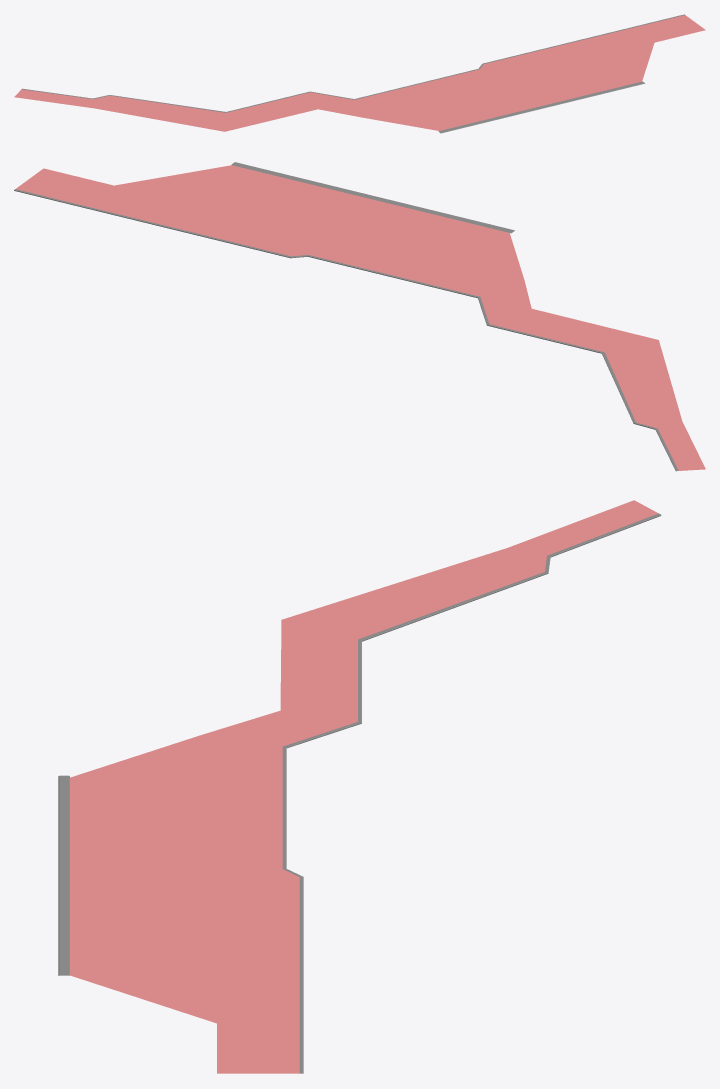
The model's file is S_Envi_Umeda_Ground_02c.gltf.
3 renders of one model, top to bottom at view 1: azimuth 30°, elevation 25°; view 2: azimuth 150°, elevation 25°; view 3: azimuth 270°, elevation 25°, orthographic. The views are drawn at different scales.
Visible parts, largest first — view 1: S_Envi_Umeda_Ground_02c; view 2: S_Envi_Umeda_Ground_02c; view 3: S_Envi_Umeda_Ground_02c.
Part boxes in pixels (box(x1,y1,x2,y2)): S_Envi_Umeda_Ground_02c: box(14, 14, 705, 133); S_Envi_Umeda_Ground_02c: box(14, 162, 705, 471); S_Envi_Umeda_Ground_02c: box(58, 500, 661, 1073).
Size of the model in its own units: 49 by 0.0587 by 21.77.
